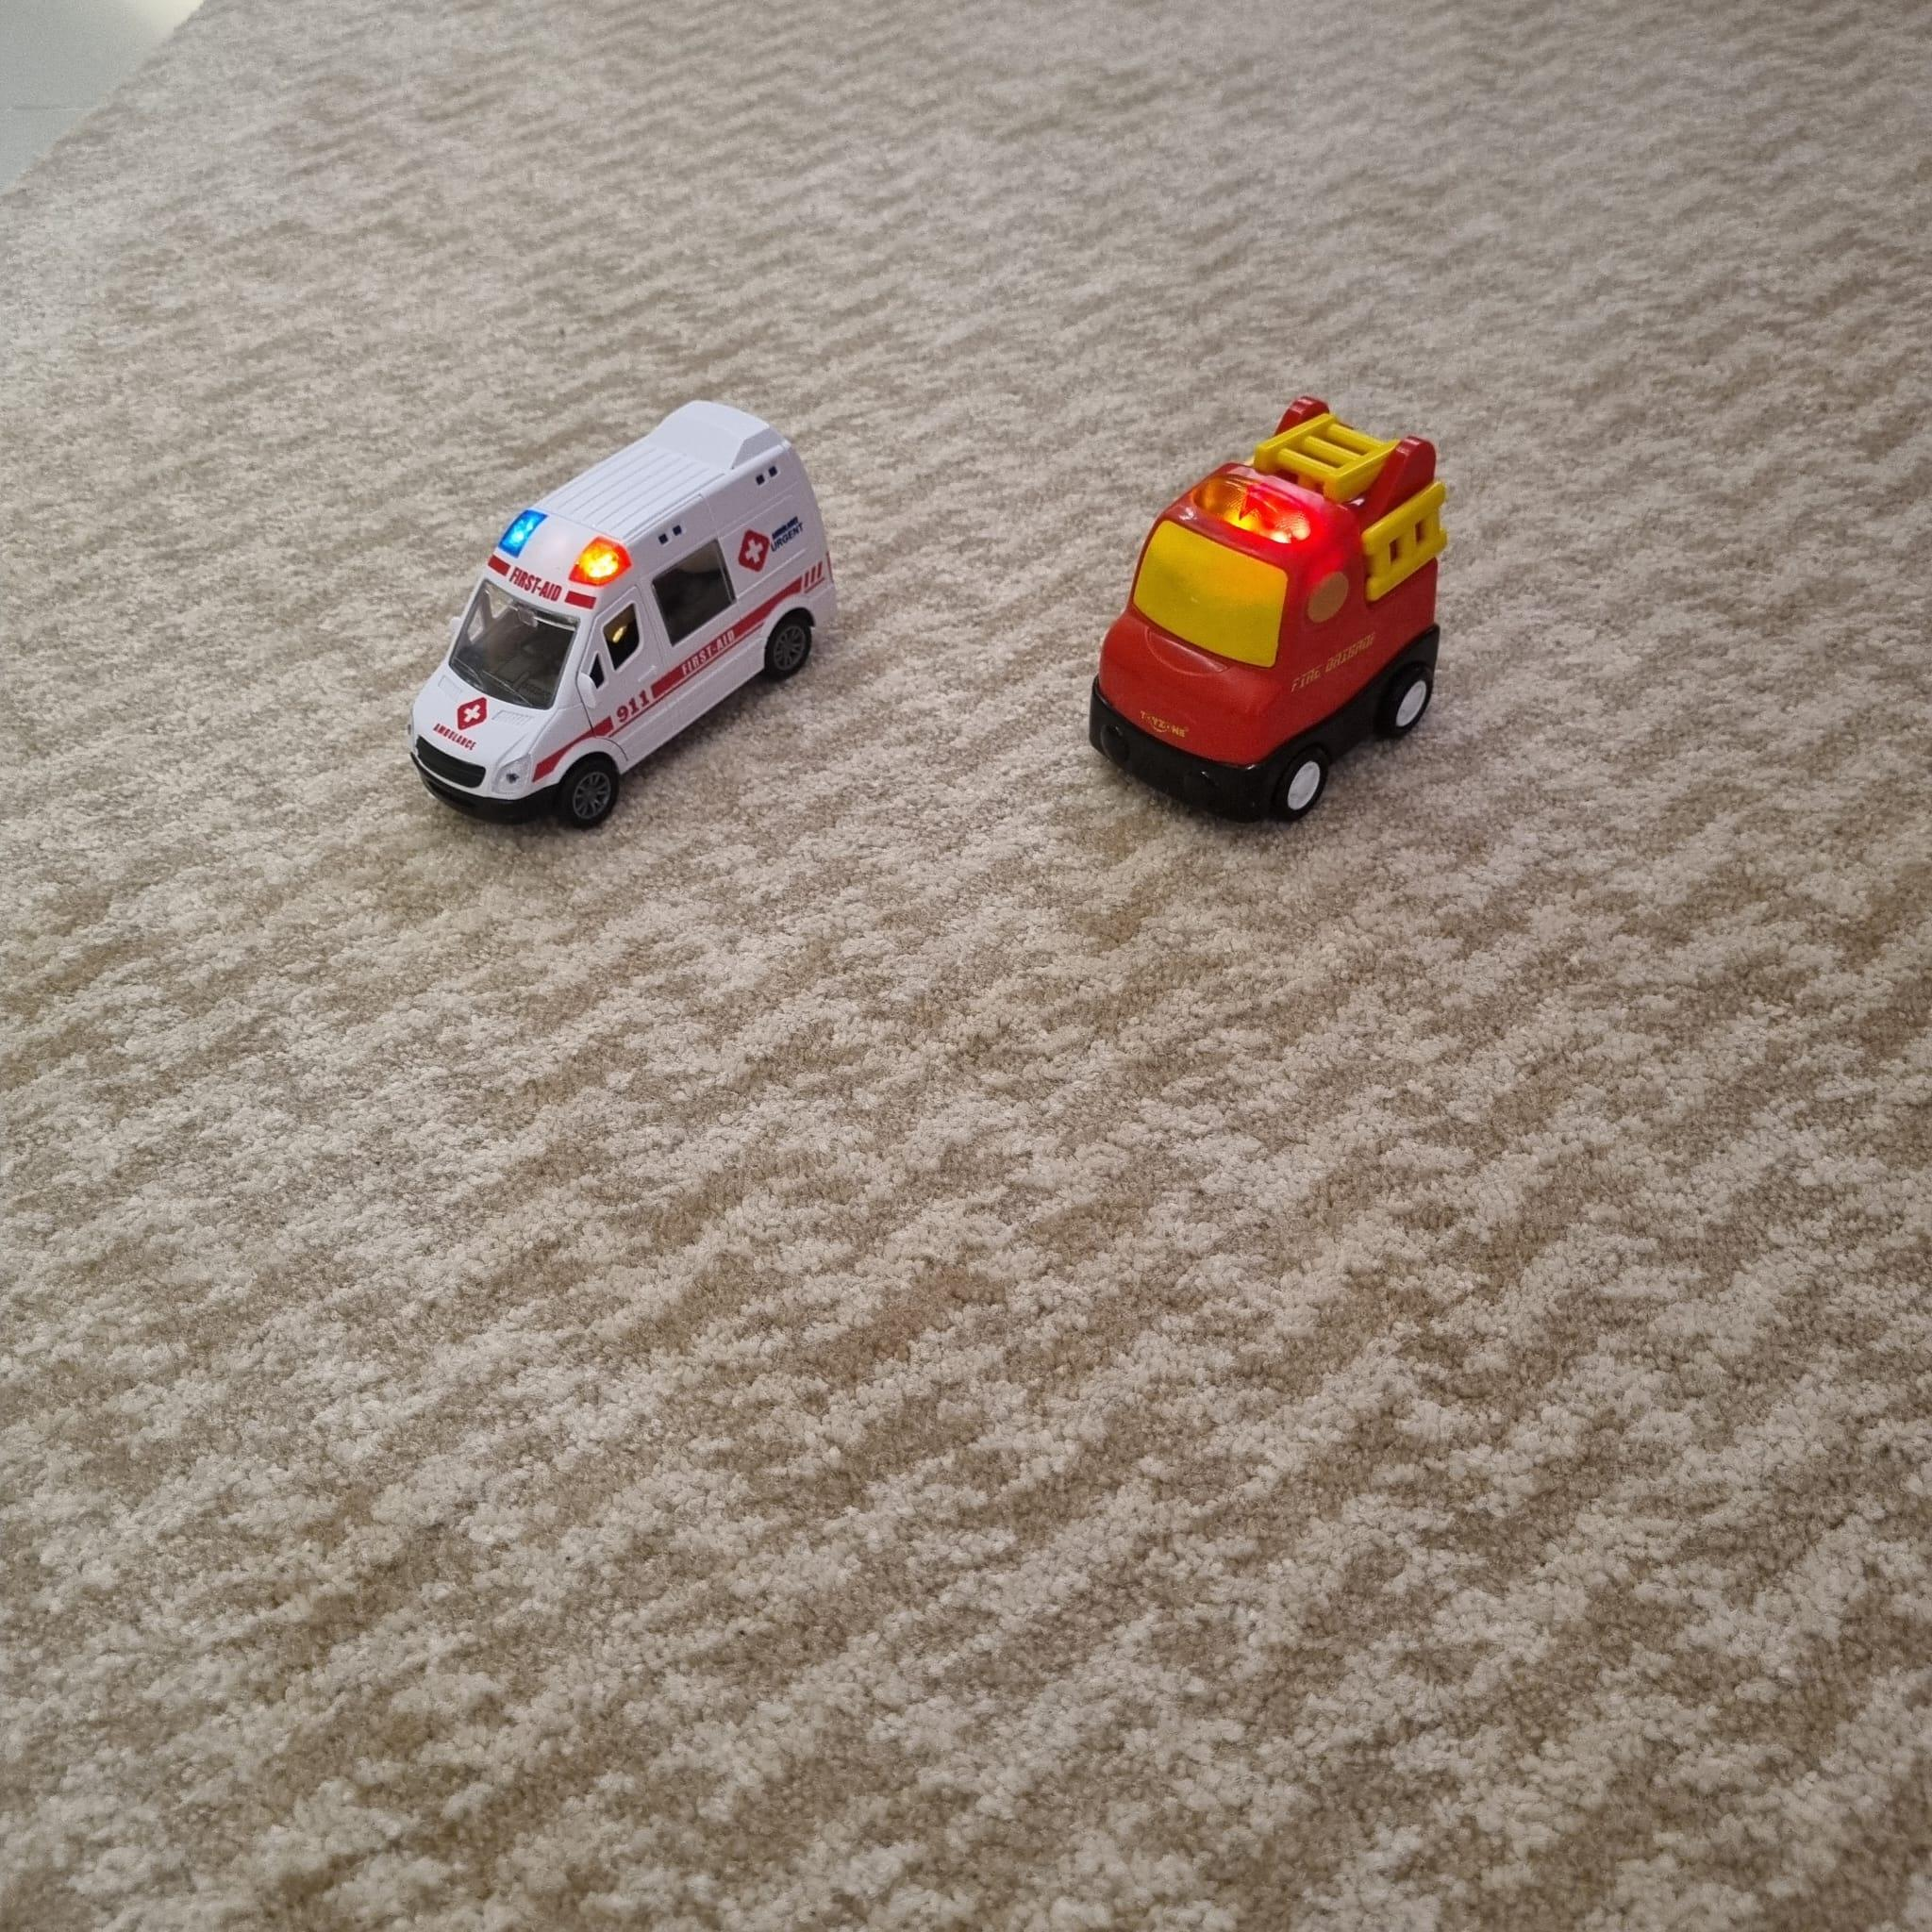ambulance_on: (409, 396, 833, 832)
firetruck_on: (1088, 398, 1447, 826)
